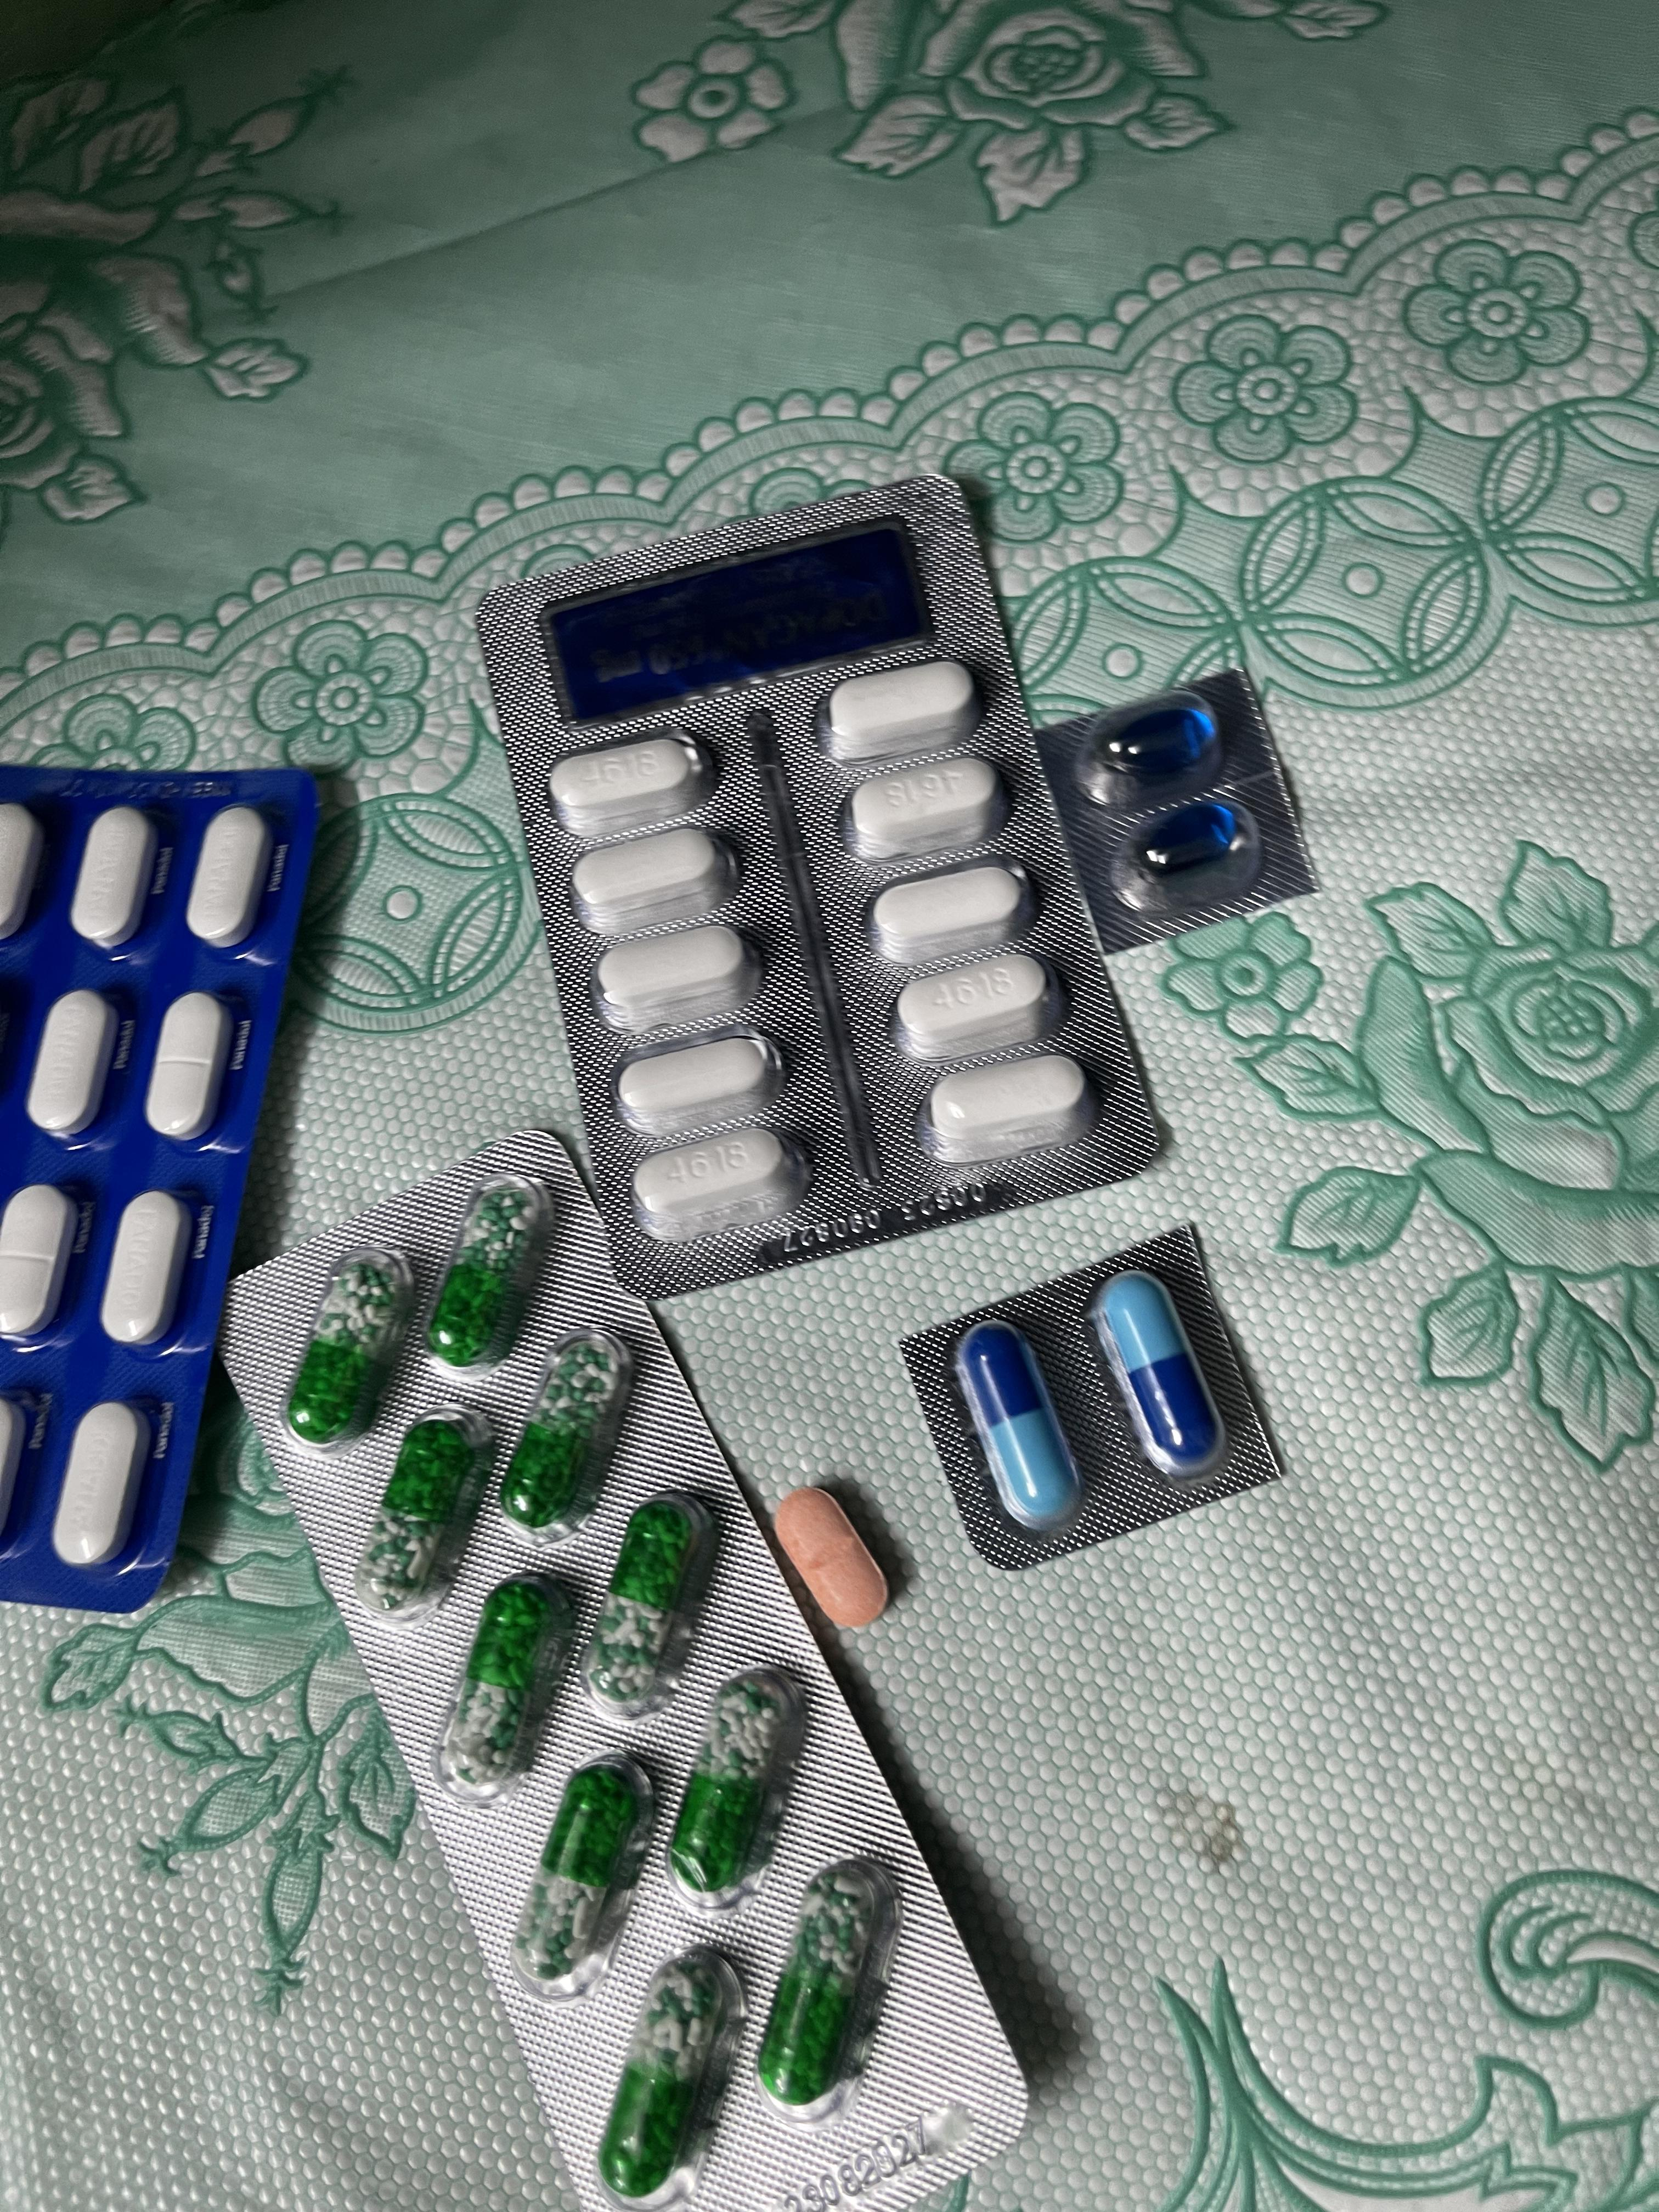Lincomyxin_500mg: (1133, 803, 1241, 881), (1105, 704, 1216, 775)
Loratadine_10mg: (779, 1487, 889, 1627)
Paracetamol_350mg: (52, 1404, 150, 1571), (101, 1188, 192, 1345), (24, 995, 117, 1144), (145, 993, 232, 1146), (0, 1184, 78, 1339), (186, 808, 274, 948), (71, 808, 157, 946)
Paracetamol_500mg: (634, 1127, 803, 1242), (925, 1052, 1094, 1162), (896, 953, 1060, 1062), (572, 824, 737, 932), (871, 864, 1035, 972), (615, 1029, 779, 1137), (823, 658, 981, 766), (847, 758, 1006, 866), (596, 921, 756, 1028), (552, 733, 714, 834)
Paracetamol_650mg: (511, 1759, 650, 2001), (439, 1578, 582, 1801), (599, 1961, 732, 2202), (352, 1413, 495, 1618), (671, 1684, 789, 1905), (282, 1249, 413, 1442), (763, 1885, 871, 2101), (591, 1501, 701, 1703), (505, 1357, 617, 1529), (429, 1190, 537, 1364)
pill: (955, 1322, 1080, 1531), (1096, 1277, 1216, 1467)
